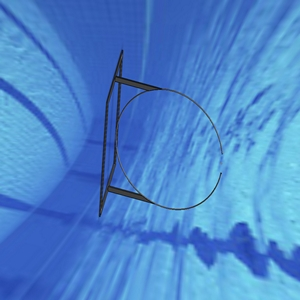circle: (97, 47, 224, 218)
